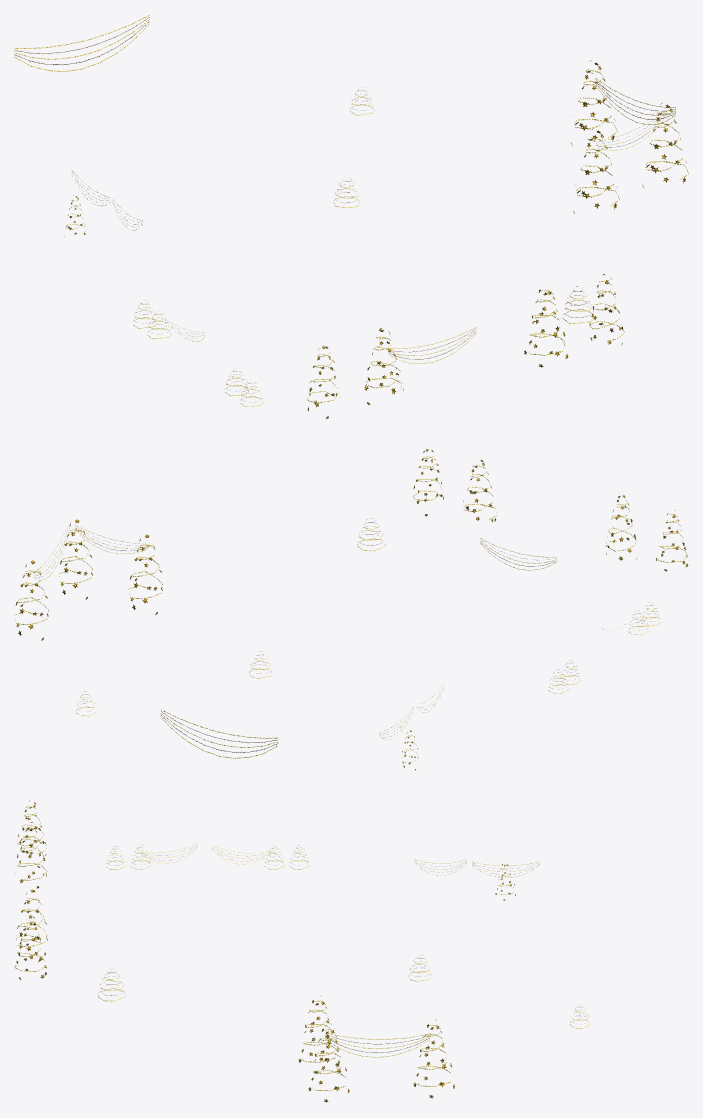
Rendered from christmas_light_all.FBX.
3 views of the same model, one above another, from view 1: azimuth 30°, elevation 25°; view 2: azimuth 150°, elevation 25°; view 3: azimuth 270°, elevation 25° (orthographic). The views are drawn at different scales.
Parts seen in each view (by area): view 1: christmas_light_all; view 2: christmas_light_all; view 3: christmas_light_all.
Boxes of the visible parts, <box> form: christmas_light_all: <box>14,15,688,418</box>; christmas_light_all: <box>14,449,688,770</box>; christmas_light_all: <box>14,800,590,1102</box>.
Size of the model in its own units: 9315 by 1689 by 11138.
